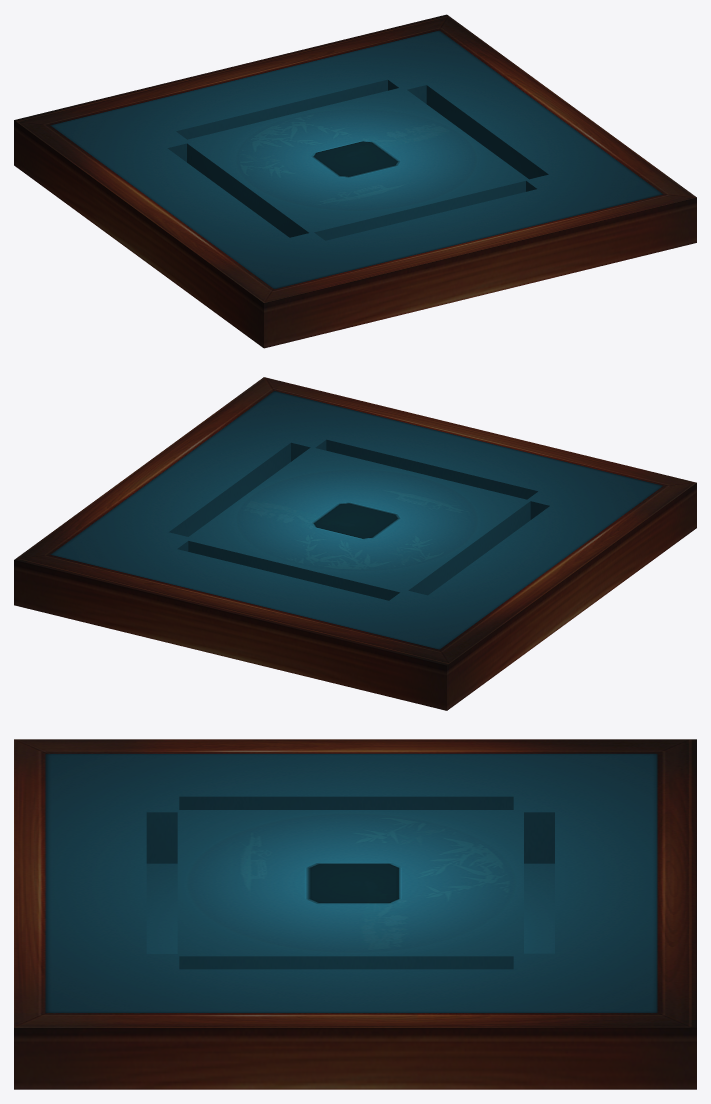
File: majiangzuo_01(fuzhou).FBX
3 renders of one model, top to bottom at view 1: azimuth 30°, elevation 25°; view 2: azimuth 150°, elevation 25°; view 3: azimuth 270°, elevation 25°, orthographic. The views are drawn at different scales.
Visible parts, largest first — view 1: Mahjongzhuo; view 2: Mahjongzhuo; view 3: Mahjongzhuo.
Part boxes in pixels (left/top/right/bottom): Mahjongzhuo: left=14, top=14, right=696, bottom=348; Mahjongzhuo: left=14, top=377, right=696, bottom=710; Mahjongzhuo: left=14, top=739, right=696, bottom=1089.
Size of the model in its own units: 21.86 by 2.19 by 21.86.
